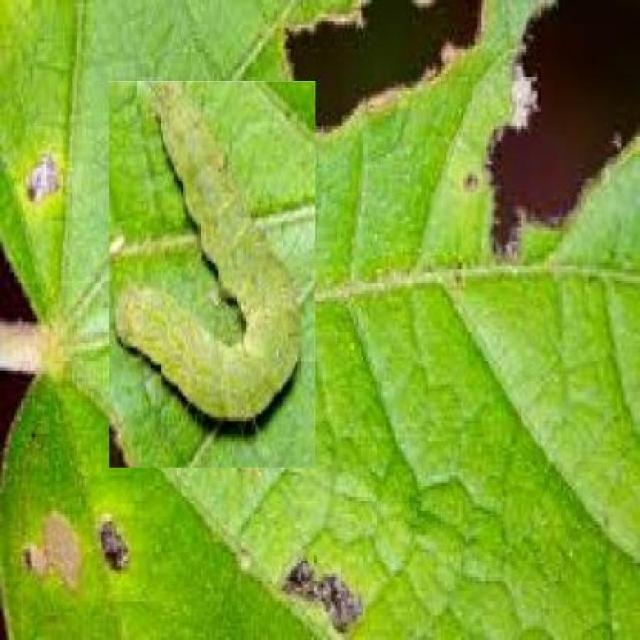Plaga: (108, 81, 317, 470)
